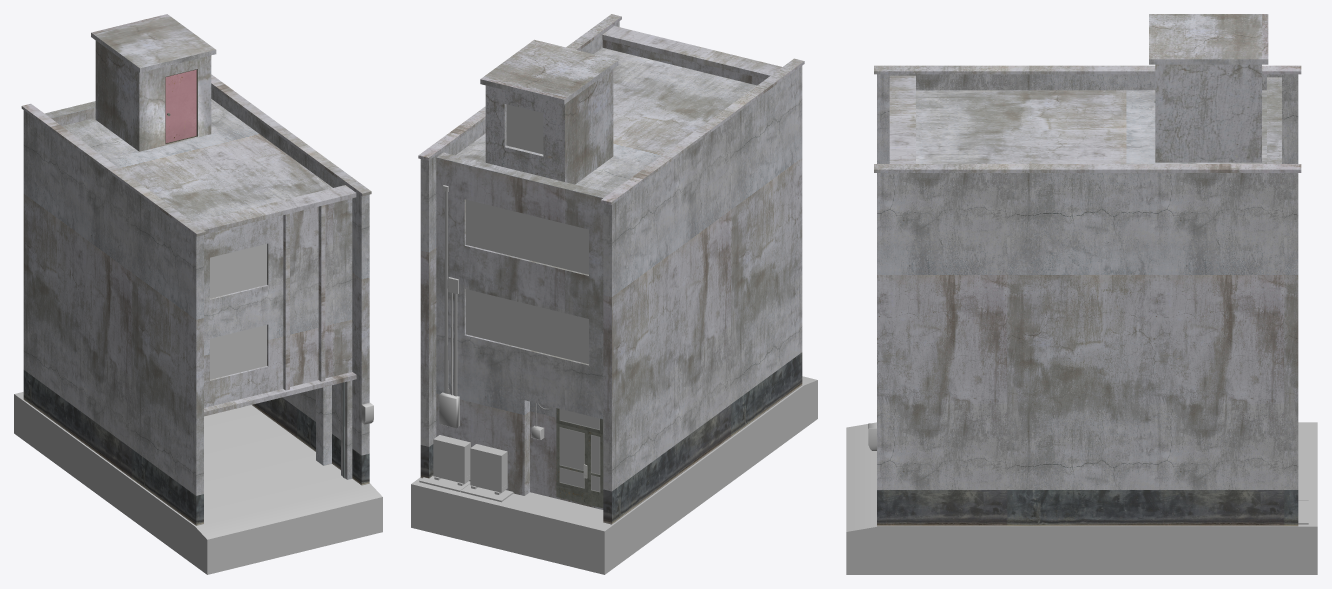
The model's file is mallbil_s_b2.fbx.
3 renders of one model, left to right at view 1: azimuth 30°, elevation 25°; view 2: azimuth 150°, elevation 25°; view 3: azimuth 270°, elevation 25°, orthographic. The views are drawn at different scales.
Visible parts, largest first — view 1: mallbil_s_b2; view 2: mallbil_s_b2; view 3: mallbil_s_b2.
Part boxes in pixels (box(x1,y1,x2,y2)): mallbil_s_b2: box(14, 14, 382, 574); mallbil_s_b2: box(411, 14, 817, 574); mallbil_s_b2: box(846, 14, 1317, 574).
Size of the model in its own units: 596 by 1303 by 1135.
